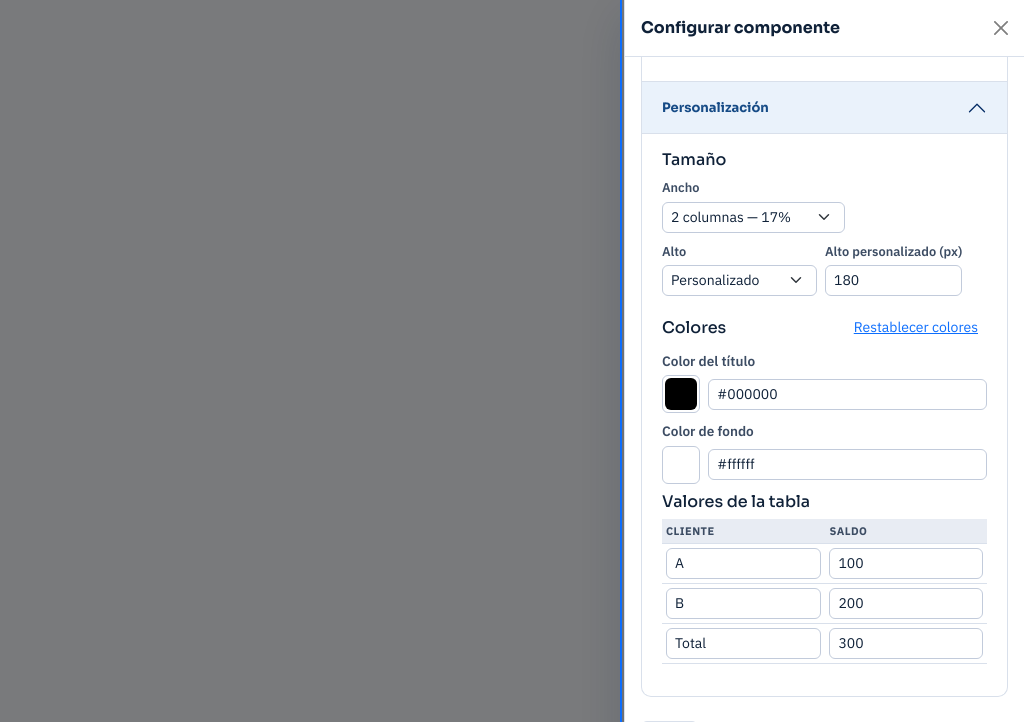
Test: ComponentPropertiesPanel › edición de valores de celda (tablas de Zona Personal) › un valor no numérico en una celda que era numérica no propaga el cambio y muestra un error
This screenshot has width=1024, height=722.
(page scrolled)
Replace the text in the field named "Saldo — fila 1" with "abc" at (906, 564), box [829,548,983,579]
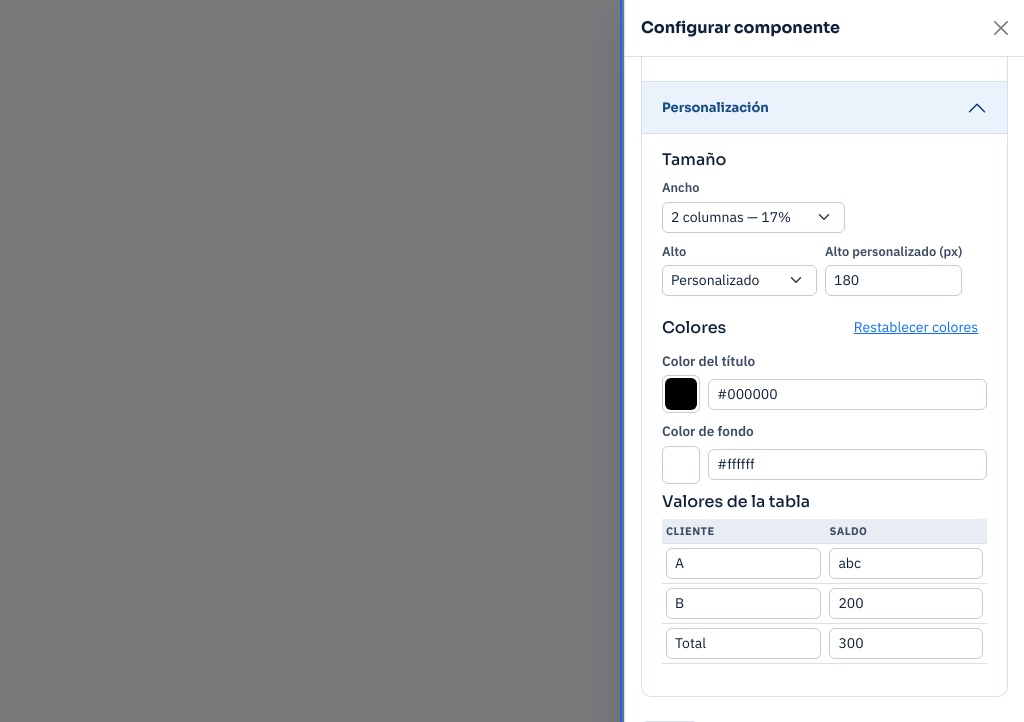
Leave the field named "Saldo — fila 1", box [829,548,983,579]
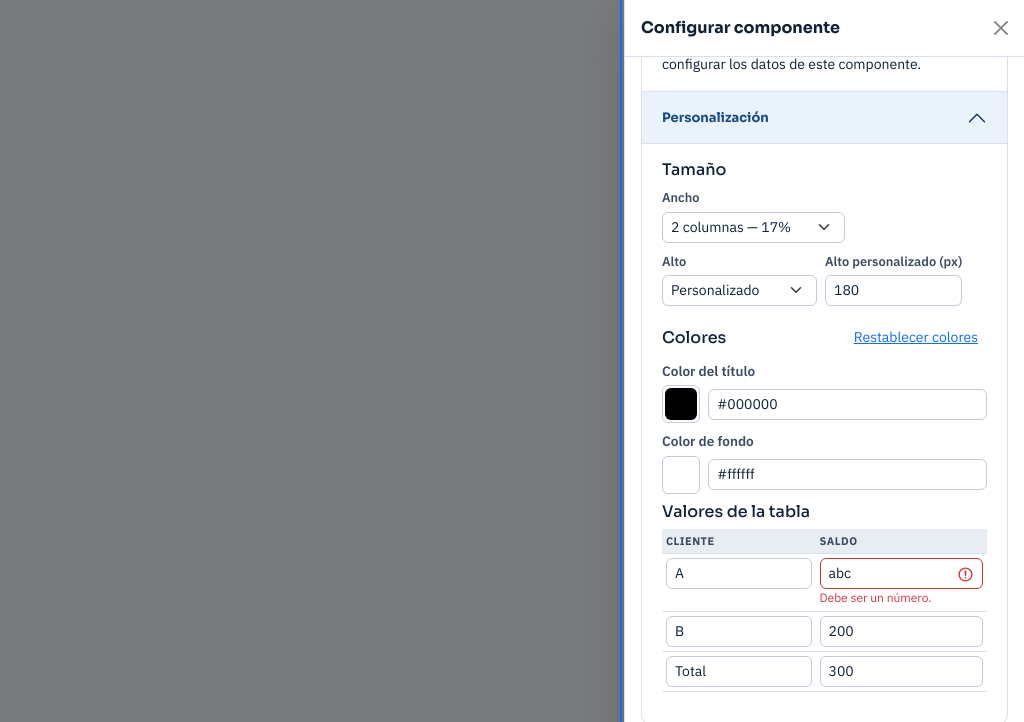
Expected: the text "Debe ser un número." is shown, [820,590,931,605]
